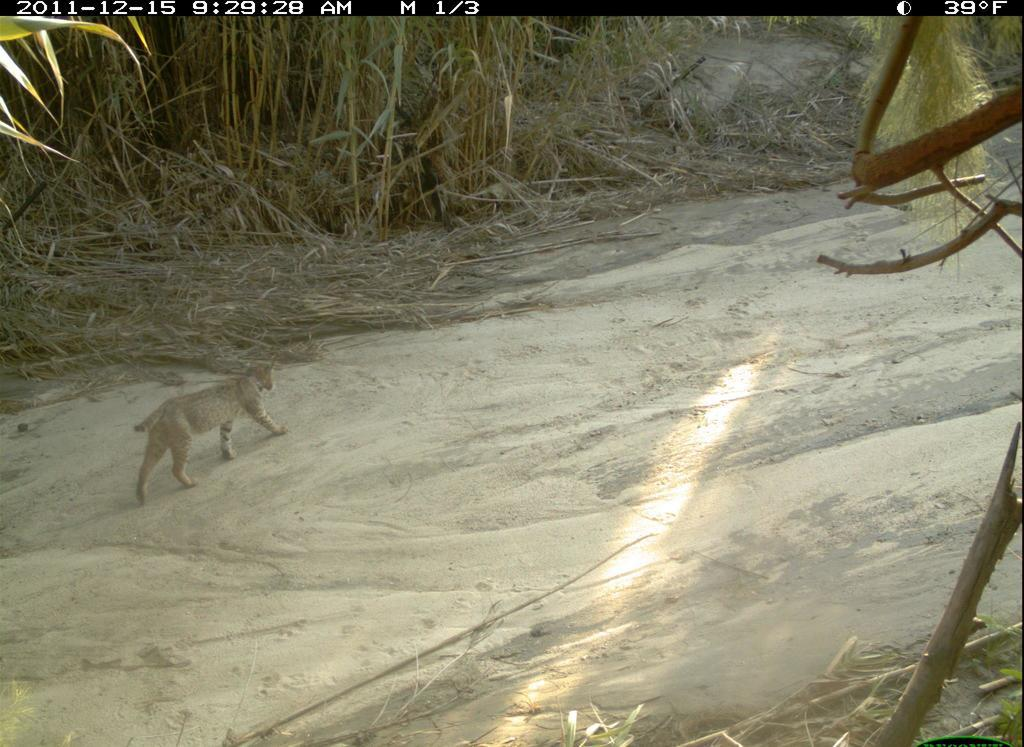bobcat: (123, 353, 290, 515)
